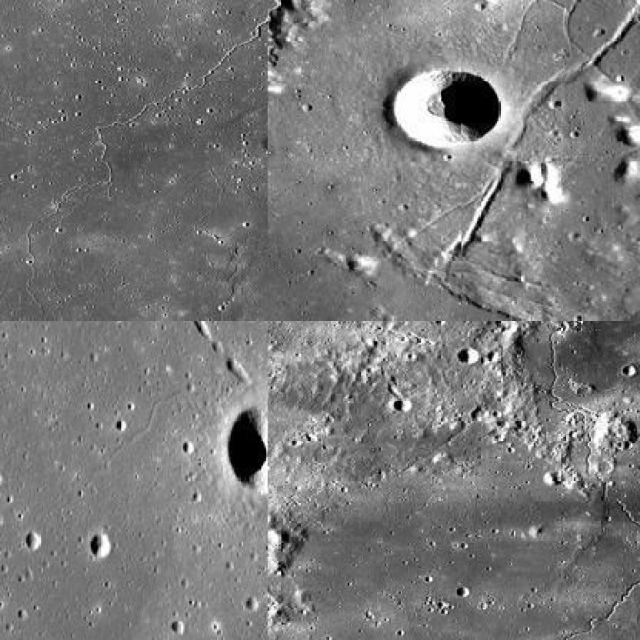rille: (268, 0, 594, 318), (4, 0, 266, 318), (466, 320, 639, 638), (440, 0, 638, 260), (41, 178, 116, 318)
